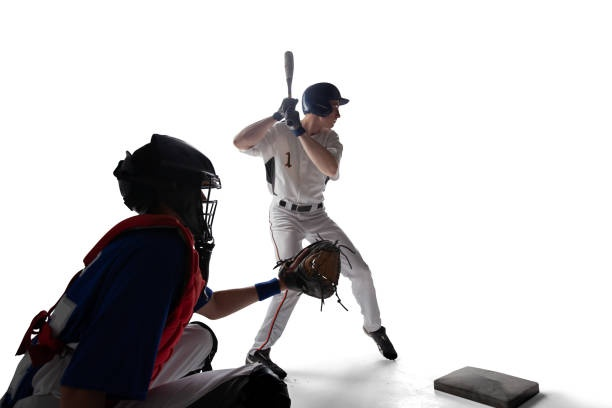bita: (275, 38, 304, 125)
